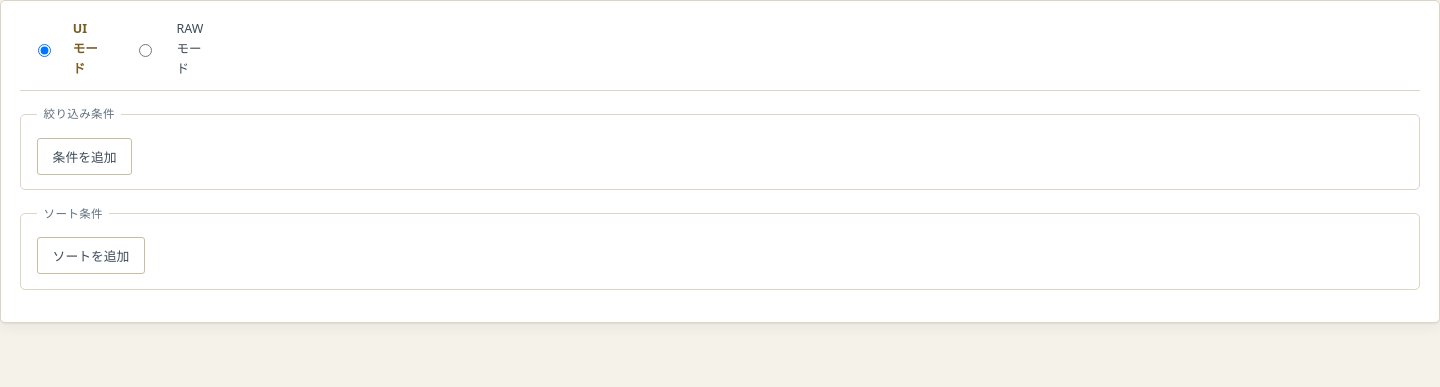
FilterPanel › adds a condition and hides the value input for IS_NULL operator
Step 1. Click the button "条件を追加" → (85, 156), box [37,138,132,175]
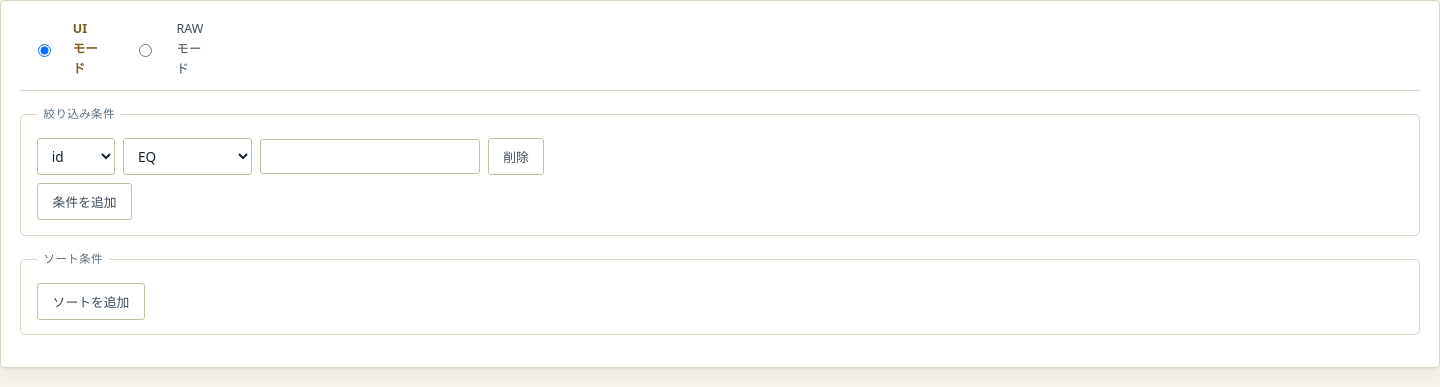
Result: the number of fields is 1 at [260,139,480,174]
Step 2. Select "IS_NULL" in the 2nd dropdown → (188, 157), box [123,138,252,175]
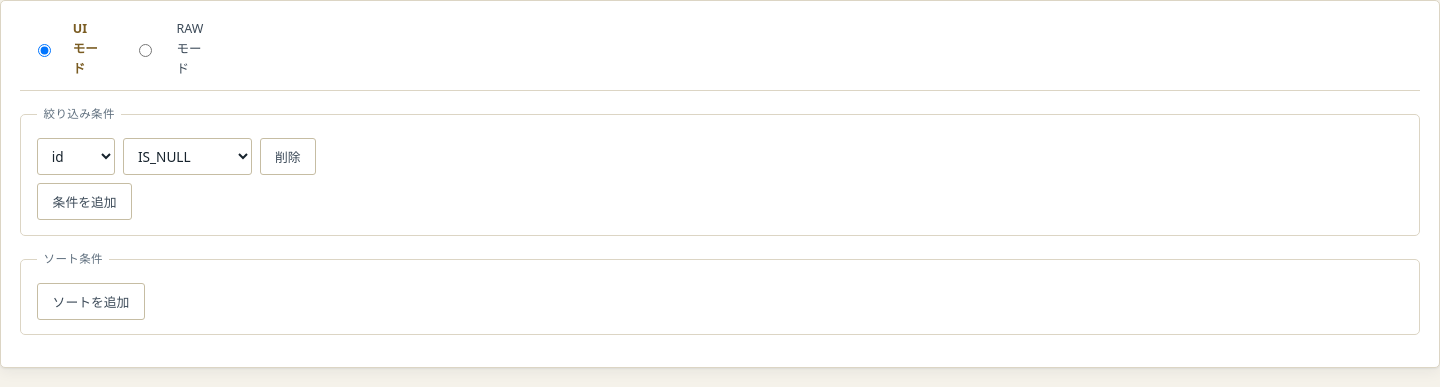
Result: no fields are shown
